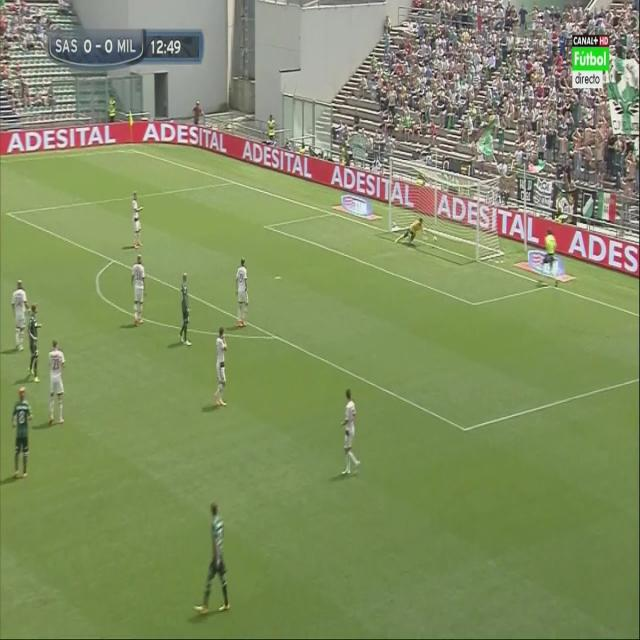Ball: (431, 232, 439, 247)
Goalkeeper: (394, 216, 426, 247)
Player: (190, 498, 232, 620), (11, 384, 36, 482), (337, 386, 363, 478), (46, 335, 68, 429), (10, 278, 30, 356), (212, 325, 229, 409), (131, 253, 148, 330), (234, 253, 251, 329), (26, 303, 42, 381), (178, 270, 193, 352), (130, 190, 145, 254)
Referee: (538, 227, 562, 293)
